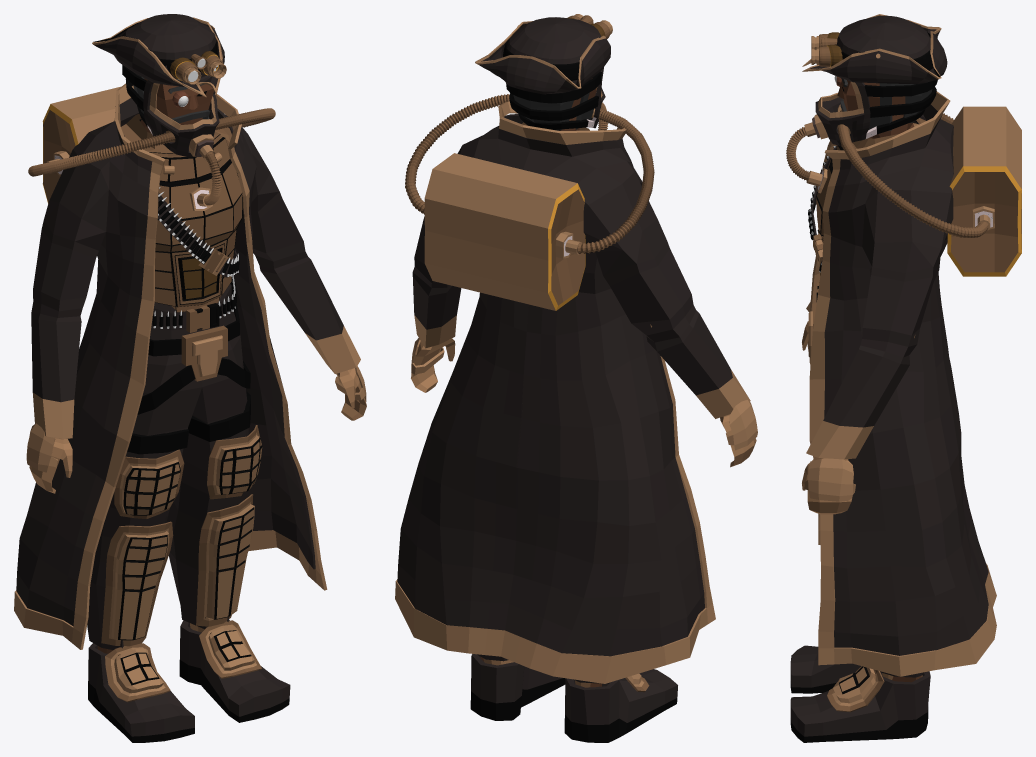
Rendered from LPC_STP_Male_001_(srasmussen).fbx.
The picture shows the model from 3 angles, left to right: view 1: azimuth 30°, elevation 25°; view 2: azimuth 150°, elevation 25°; view 3: azimuth 270°, elevation 25°; orthographic projection. The views are drawn at different scales.
Visible parts, largest first — view 1: STP_Cloak, LPM_Pants_Black_B, STP_Cloak Trim, Shinpads, STP_Vest, LPM_Shoes_Black_B, Kneepads, STP_Tri Corn Hat, STP_Boots, H2O_Tank, GasMaskTubing, STP_Bullet_Leg_Strap (+13 smaller); view 2: STP_Cloak, H2O_Tank, STP_Cloak Trim, LPM_Shoes_Black_B, STP_Tri Corn Hat, GasMaskTubing, STP_Face Mask Outer, LPH_Arms.001, STP_Gloves R, Hair Graying.001; view 3: STP_Cloak, STP_Cloak Trim, H2O_Tank, LPM_Shoes_Black_B, STP_Tri Corn Hat, STP_Face Mask Outer, GasMaskTubing, STP_Gloves L, STP_Boots, LPH_Head.002, STP_Tri Corn Hat Lens, STP_Face Mask Trim (+4 smaller).
Boxes of the visible parts, left/top/right/bottom form: STP_Cloak: left=16, top=98, right=360, bottom=626; LPM_Pants_Black_B: left=87, top=283, right=248, bottom=649; STP_Cloak Trim: left=14, top=83, right=327, bottom=649; Shinpads: left=101, top=494, right=254, bottom=646; STP_Vest: left=121, top=114, right=243, bottom=312; LPM_Shoes_Black_B: left=88, top=620, right=290, bottom=742; Kneepads: left=114, top=425, right=262, bottom=518; STP_Tri Corn Hat: left=92, top=14, right=224, bottom=97; STP_Boots: left=105, top=620, right=261, bottom=702; H2O_Tank: left=42, top=86, right=120, bottom=203; GasMaskTubing: left=28, top=108, right=275, bottom=205; STP_Bullet_Leg_Strap: left=127, top=390, right=250, bottom=454; STP_Cloak: left=397, top=114, right=750, bottom=656; H2O_Tank: left=424, top=153, right=585, bottom=310; STP_Cloak Trim: left=395, top=101, right=715, bottom=683; LPM_Shoes_Black_B: left=470, top=654, right=677, bottom=742; STP_Tri Corn Hat: left=475, top=17, right=610, bottom=94; GasMaskTubing: left=405, top=94, right=654, bottom=253; STP_Face Mask Outer: left=506, top=67, right=605, bottom=129; LPH_Arms.001: left=411, top=324, right=756, bottom=467; STP_Gloves R: left=726, top=400, right=757, bottom=450; Hair Graying.001: left=513, top=92, right=589, bottom=130; STP_Cloak: left=806, top=104, right=988, bottom=655; STP_Cloak Trim: left=809, top=91, right=996, bottom=676; H2O_Tank: left=947, top=106, right=1021, bottom=276; LPM_Shoes_Black_B: left=790, top=645, right=930, bottom=742; STP_Tri Corn Hat: left=802, top=14, right=947, bottom=83; STP_Face Mask Outer: left=812, top=80, right=937, bottom=145; GasMaskTubing: left=786, top=109, right=988, bottom=237; STP_Gloves L: left=804, top=458, right=855, bottom=501; STP_Boots: left=827, top=666, right=884, bottom=712; LPH_Head.002: left=837, top=80, right=914, bottom=138; STP_Tri Corn Hat Lens: left=811, top=32, right=842, bottom=66; STP_Face Mask Trim: left=804, top=81, right=863, bottom=139.
Size of the model in its own units: 238 by 467 by 146.
5 materials, 2 textured.
